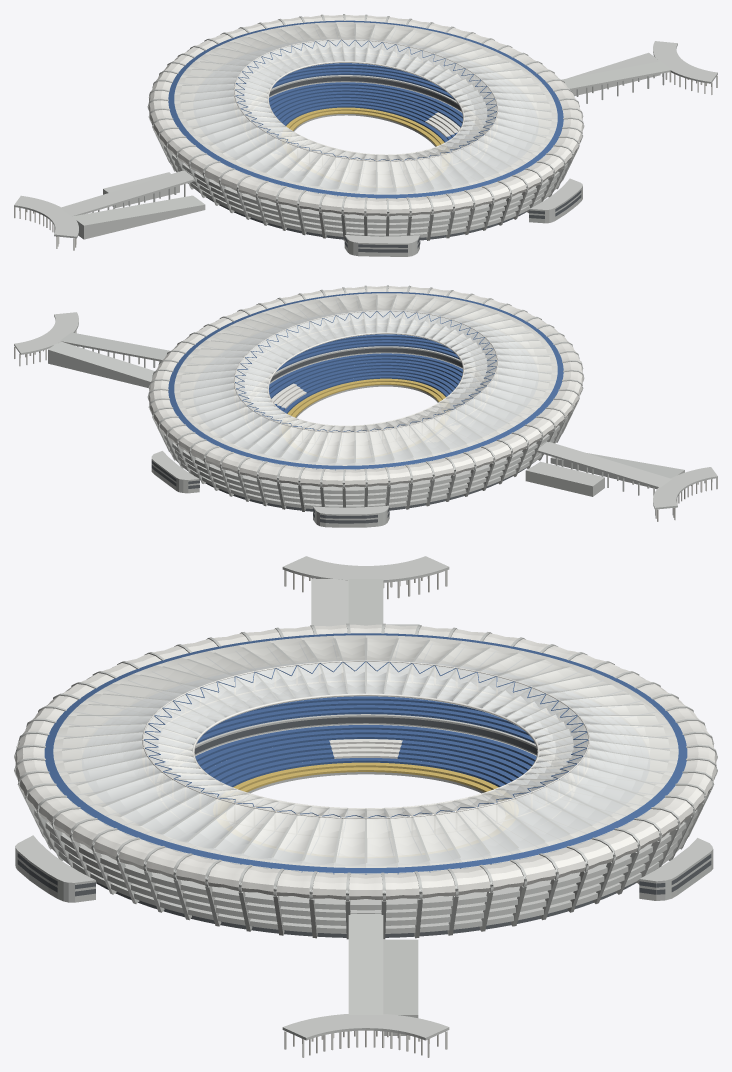
Rendered from rio-maracana.detail.glb.
3 renders of one model, top to bottom at view 1: azimuth 30°, elevation 25°; view 2: azimuth 150°, elevation 25°; view 3: azimuth 270°, elevation 25°, orthographic. The views are drawn at different scales.
Parts seen in each view (by area): view 1: Maracanã; view 2: Maracanã; view 3: Maracanã.
Part boxes in pixels (x1,y1,x2,y2): Maracanã: [14, 14, 717, 256]; Maracanã: [14, 285, 717, 527]; Maracanã: [14, 556, 717, 1057].
Size of the model in its own units: 521 by 39.7 by 322.
